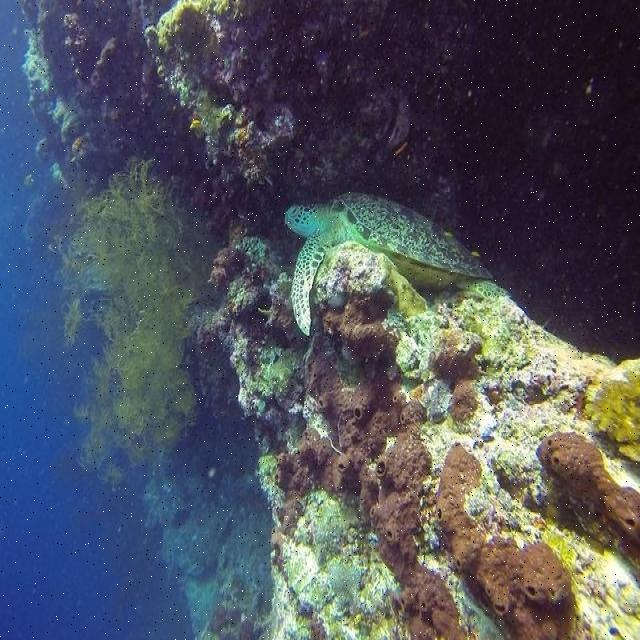aquatic plants: (47, 156, 220, 487)
fish: (285, 193, 512, 336)
reefs: (196, 233, 639, 638)
